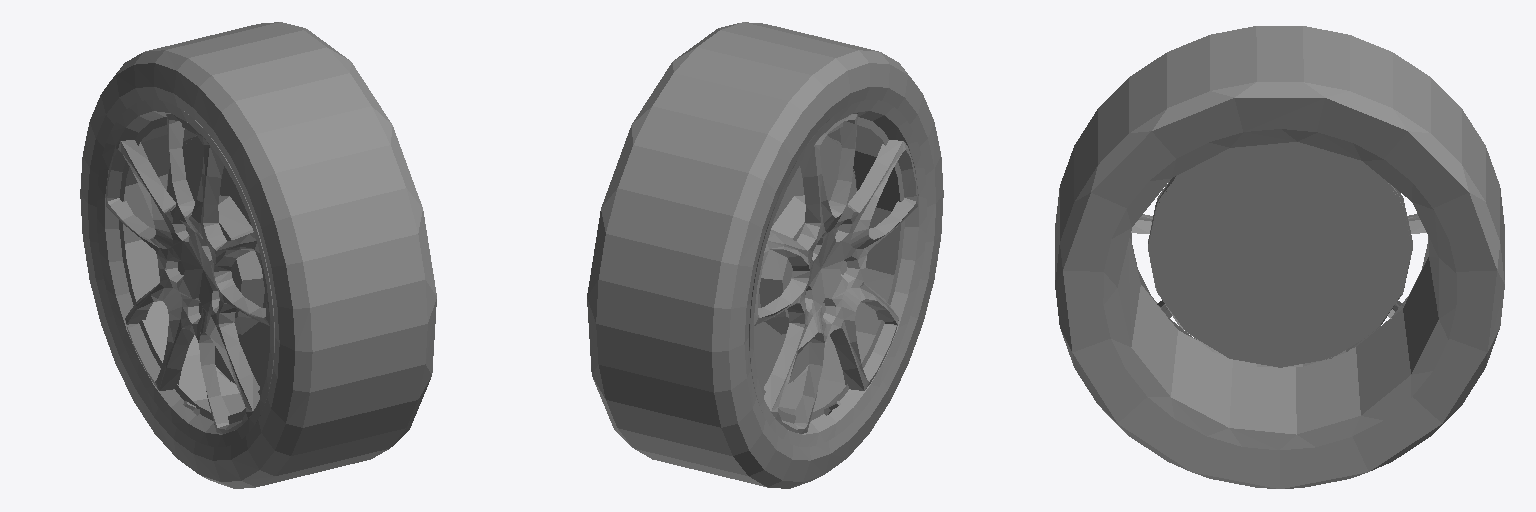
Rendered from tyre.obj.
The picture shows the model from 3 angles: view 1: azimuth 30°, elevation 25°; view 2: azimuth 150°, elevation 25°; view 3: azimuth 270°, elevation 25°; orthographic projection.
Parts seen in each view (by area): view 1: part_026; view 2: part_026; view 3: part_026.
Part boxes in pixels (bbox=[...]): part_026: bbox=[80, 22, 436, 488]; part_026: bbox=[587, 22, 943, 488]; part_026: bbox=[1055, 26, 1504, 488].
Size of the model in its own units: 0.2463 by 0.6574 by 0.6611.